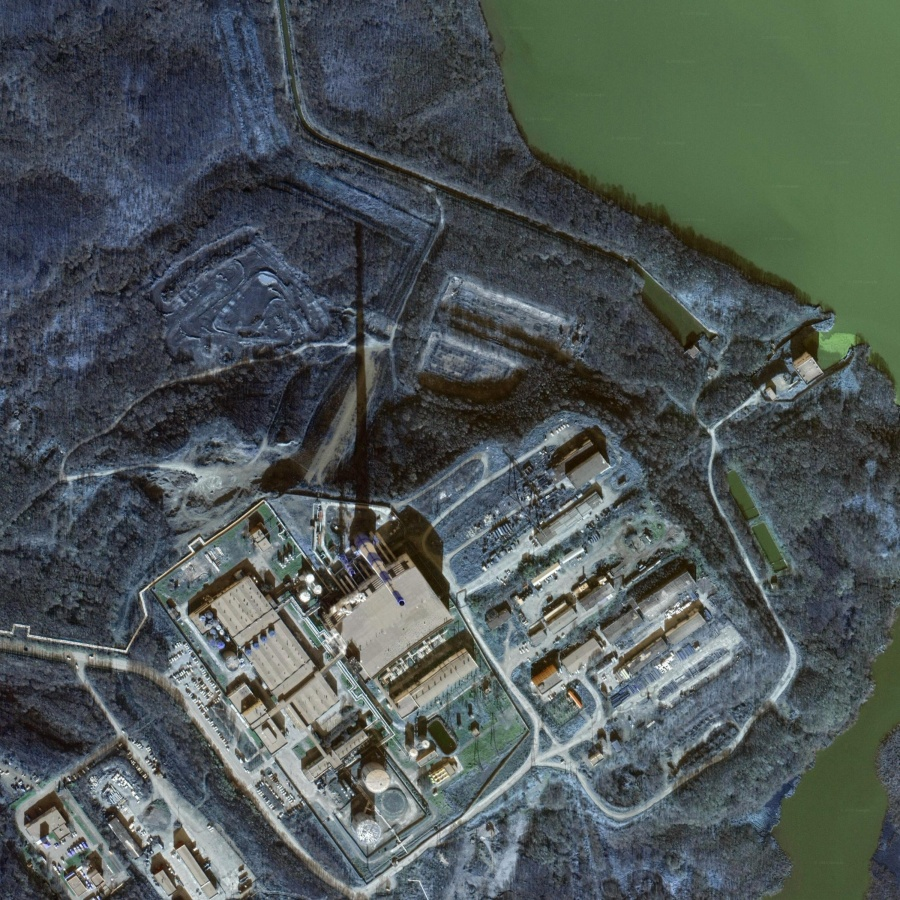PowerPlant: (186, 485, 501, 849)
